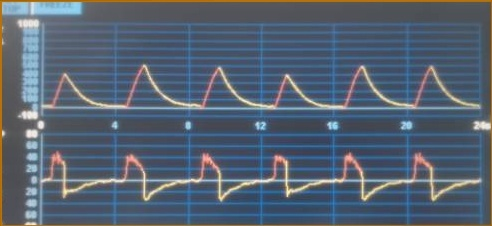Accumulation Flow: (43, 134, 482, 220)
Volume: (44, 51, 479, 116)
